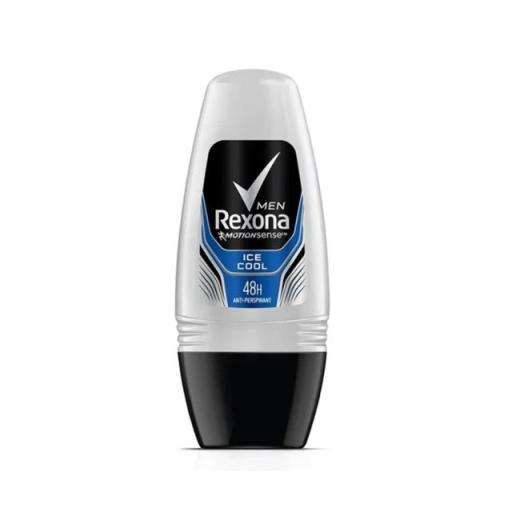plastic: (165, 60, 348, 467)
